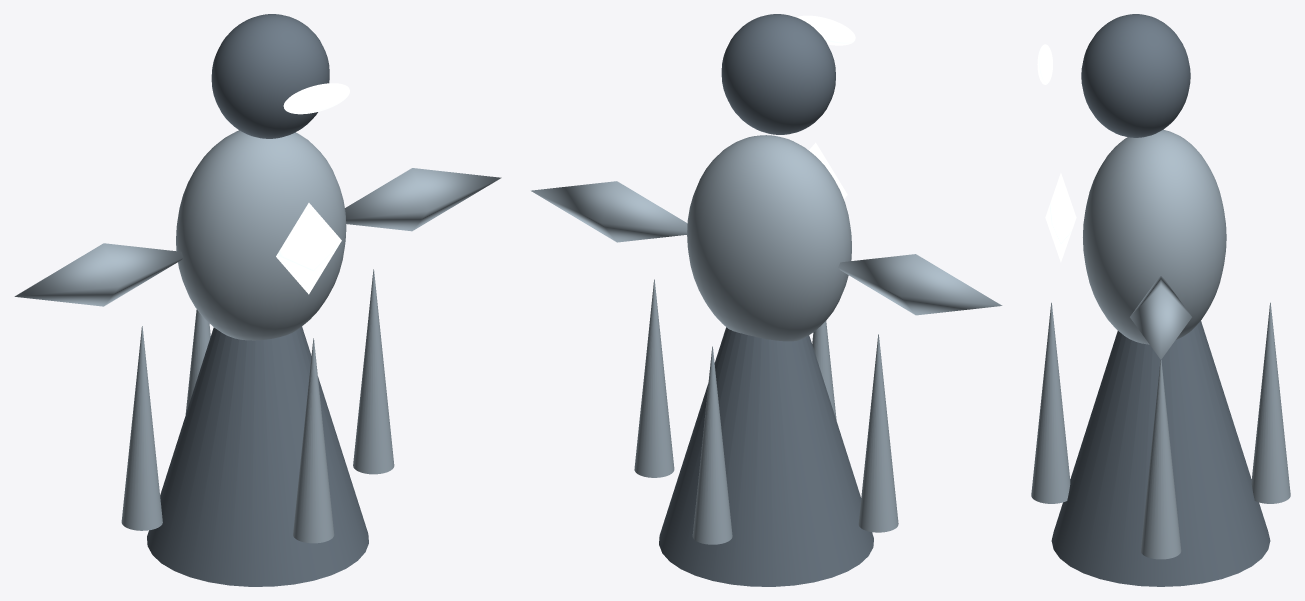
The model's file is spirit.glb.
3 renders of one model, left to right at view 1: azimuth 30°, elevation 25°; view 2: azimuth 150°, elevation 25°; view 3: azimuth 270°, elevation 25°, orthographic. The views are drawn at different scales.
Visible parts, largest first — view 1: shroud, torso, head, tendril-1, tendril1, ExtraTendril0, ExtraTendril2, ExtraTendril1, ExtraSoulCore, eyes, ExtraTendril3; view 2: shroud, torso, head, tendril-1, tendril1, ExtraTendril2, ExtraTendril3, ExtraTendril0, ExtraTendril1, eyes; view 3: shroud, torso, head, ExtraTendril0, ExtraTendril1, ExtraTendril3, tendril1, ExtraSoulCore, eyes.
Part boxes in pixels (<box>): shroud: <box>147,326,368,586</box>; torso: <box>176,130,346,340</box>; head: <box>211,14,329,138</box>; tendril-1: <box>14,243,183,306</box>; tendril1: <box>345,168,501,231</box>; ExtraTendril0: <box>353,269,394,474</box>; ExtraTendril2: <box>121,326,162,530</box>; ExtraTendril1: <box>293,338,334,543</box>; ExtraSoulCore: <box>276,203,341,294</box>; eyes: <box>283,83,349,114</box>; ExtraTendril3: <box>185,309,210,414</box>; shroud: <box>659,327,873,586</box>; torso: <box>687,135,851,341</box>; head: <box>721,14,835,134</box>; tendril-1: <box>838,254,1002,315</box>; tendril1: <box>531,181,687,242</box>; ExtraTendril2: <box>858,334,898,532</box>; ExtraTendril3: <box>692,346,732,544</box>; ExtraTendril0: <box>634,279,674,477</box>; ExtraTendril1: <box>812,321,836,420</box>; eyes: <box>796,15,855,45</box>; shroud: <box>1051,321,1270,586</box>; torso: <box>1083,130,1226,344</box>; head: <box>1081,14,1190,137</box>; ExtraTendril0: <box>1140,360,1181,559</box>; ExtraTendril1: <box>1031,302,1070,503</box>; ExtraTendril3: <box>1251,302,1290,503</box>; tendril1: <box>1130,276,1191,359</box>; ExtraSoulCore: <box>1045,173,1076,262</box>; eyes: <box>1037,44,1052,84</box>.
Size of the model in its own units: 1.77 by 1.84 by 0.83.
